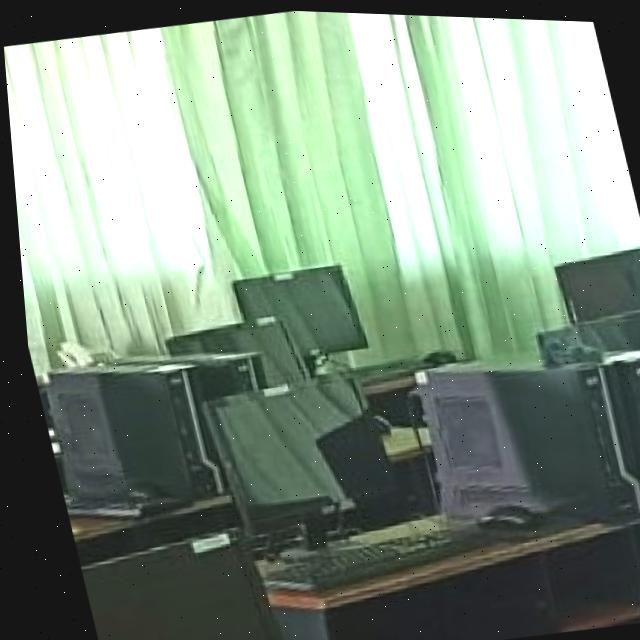offscreen: (229, 263, 361, 352)
